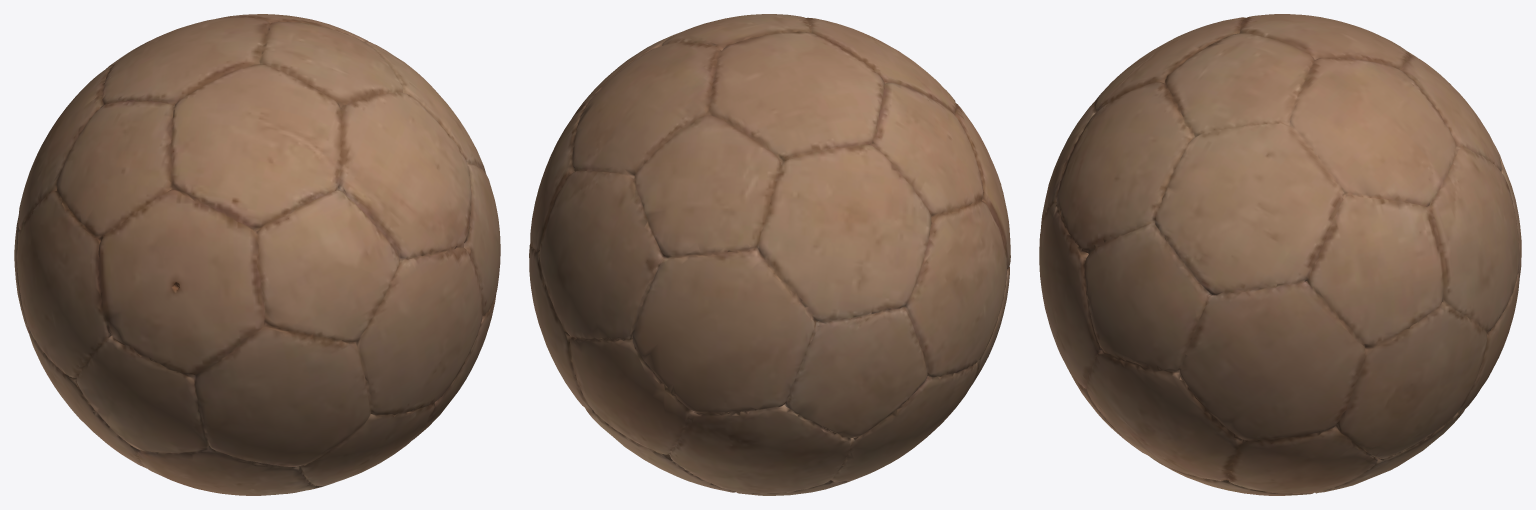
Rendered from dirty_football.glb.
3 views of the same model, side by side, from view 1: azimuth 30°, elevation 25°; view 2: azimuth 150°, elevation 25°; view 3: azimuth 270°, elevation 25° (orthographic).
Parts seen in each view (by area): view 1: dirty_football; view 2: dirty_football; view 3: dirty_football.
Boxes of the visible parts, <box> form: dirty_football: <box>14,14,500,495</box>; dirty_football: <box>529,14,1010,495</box>; dirty_football: <box>1039,14,1521,495</box>.
Size of the model in its own units: 0.2213 by 0.2201 by 0.22.
1 material, 1 textured.
